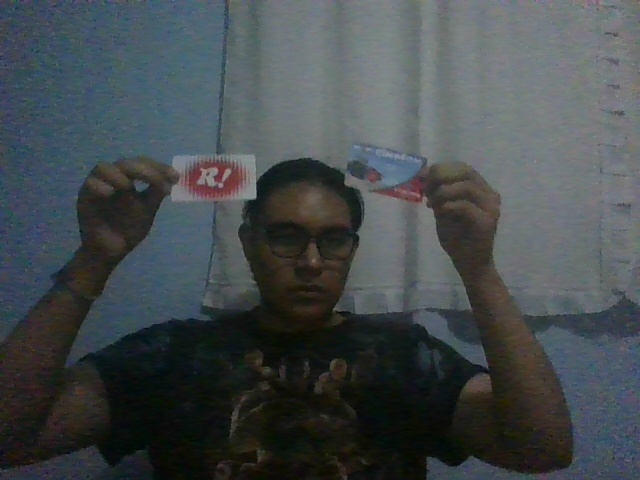tarjeta: (342, 140, 428, 204), (170, 154, 258, 203)
